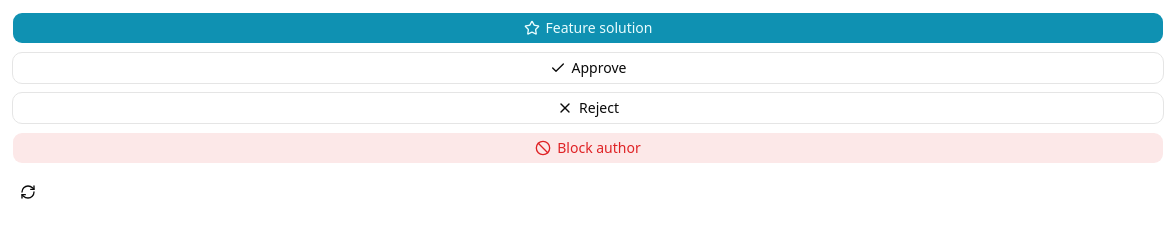
solution review actions › keeps the queue on PermissionError
Click the button "Approve": (588, 68) [12,52,1164,84]
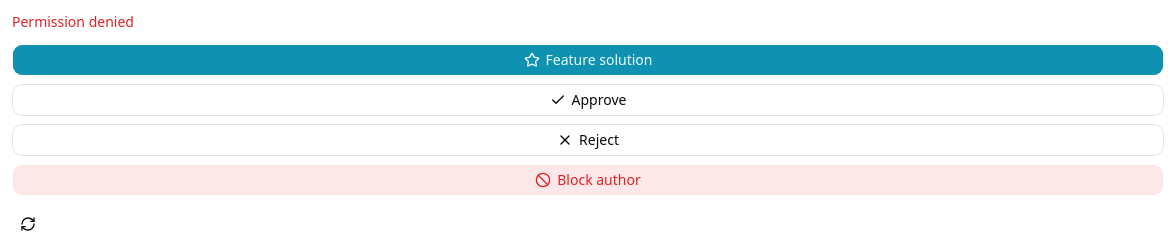
Check: the message reads "Permission denied", box [12,12,134,31]
